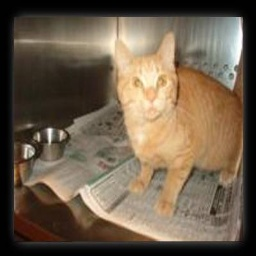cat: (108, 37, 256, 216)
